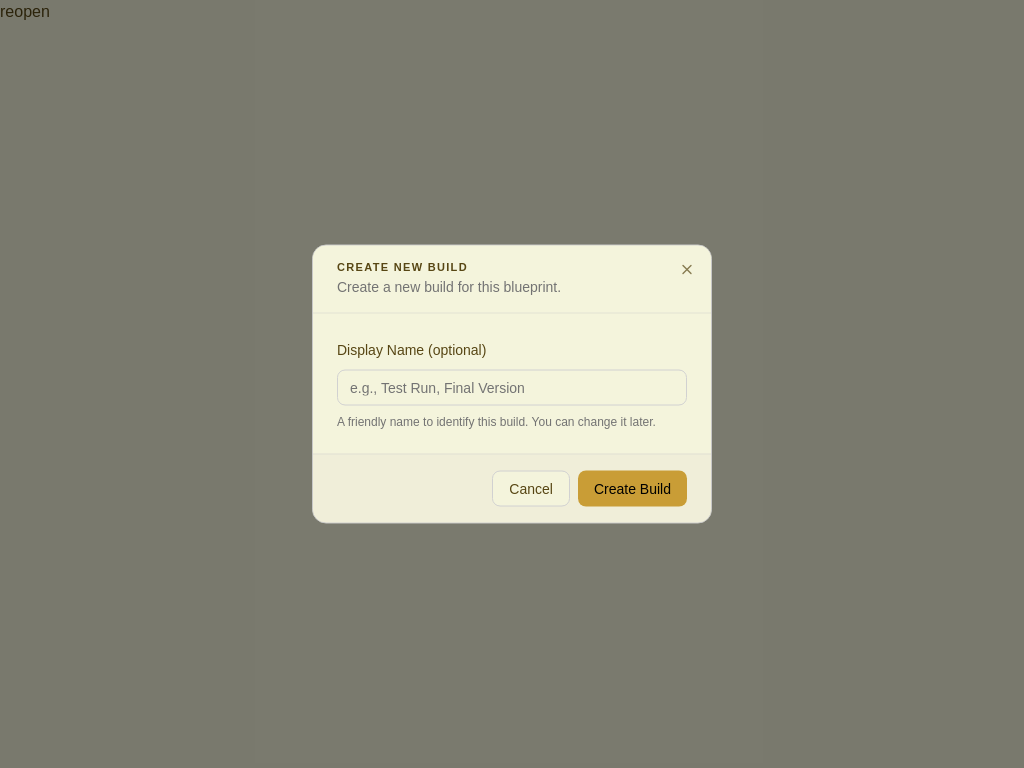
Test case: CreateBuildDialog › shows an inline error and keeps the dialog open when creation fails
Type "Test Run" into the field.
click(512, 388); type("Test Run")  # box [337,370,687,406]
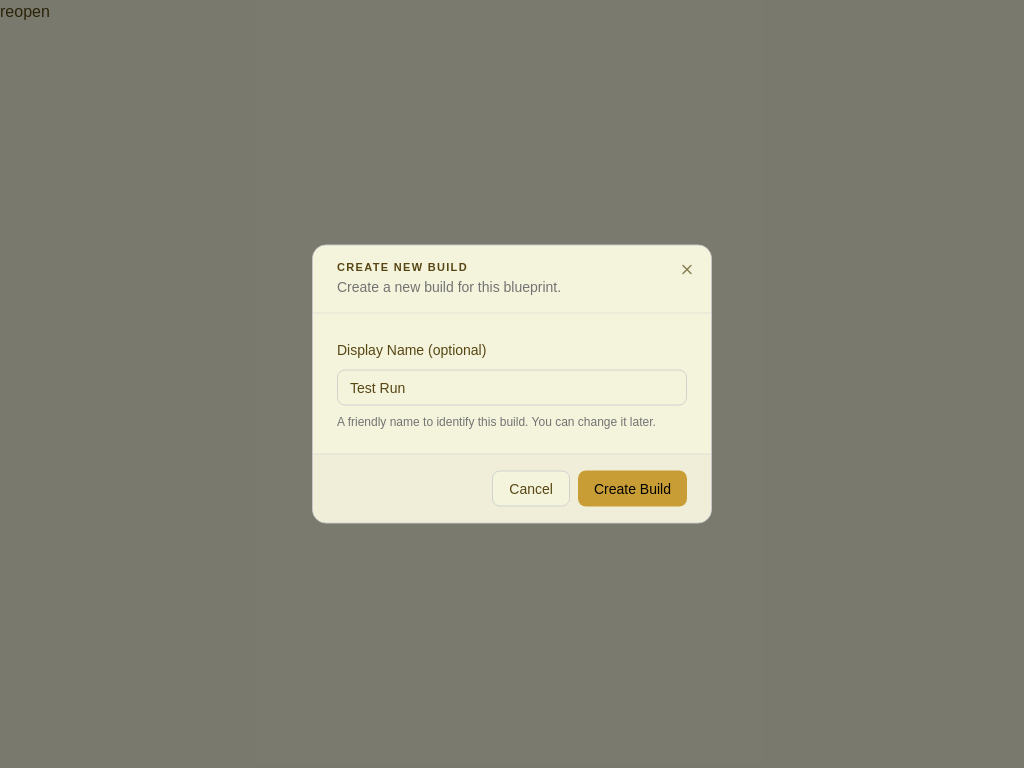
Click the button "Create Build".
click(632, 488)  # box [578,470,687,506]
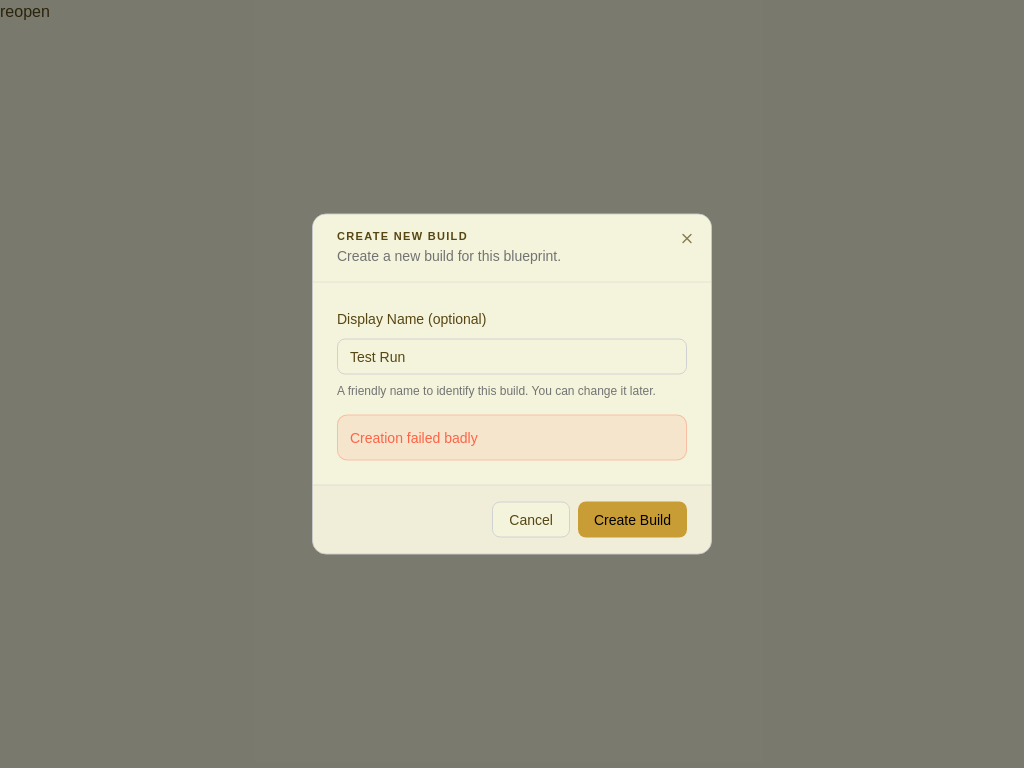
Expected: the heading "Create New Build" is shown, [337,230,468,242]
Now the text "Creation failed badly" is shown, box [337,414,687,460]
